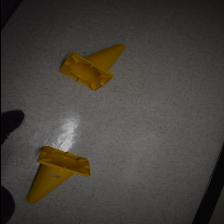cone: (24, 145, 90, 204), (58, 43, 125, 92)
